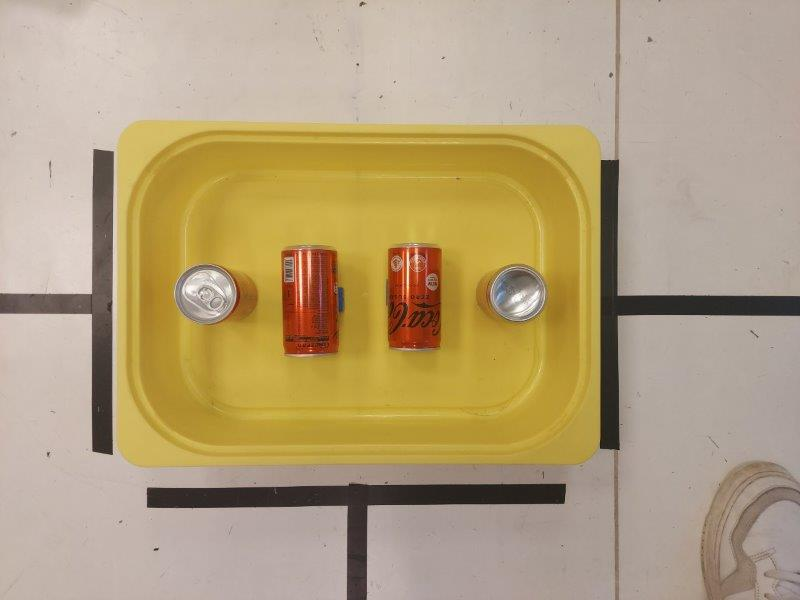Coke: (280, 245, 338, 355), (387, 243, 442, 352), (174, 262, 259, 325), (476, 262, 549, 326)
